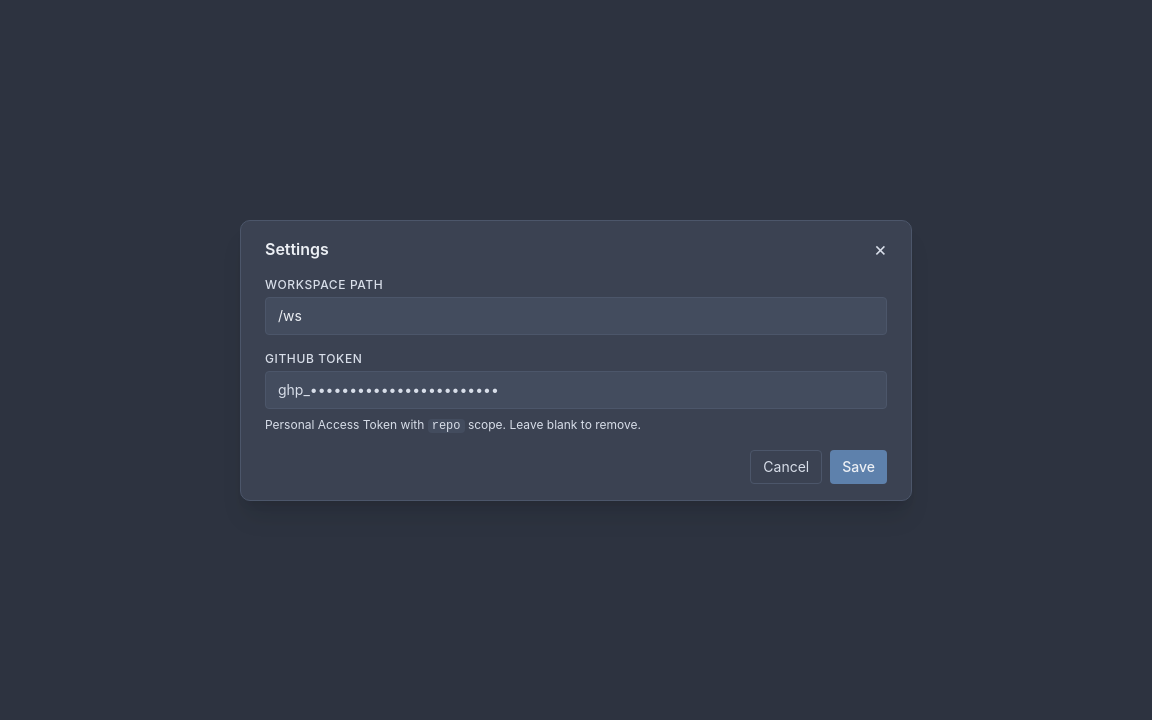
SettingsModal — GitHub Token field › should render an inline error when the PUT mutation fails
Check: the field with placeholder "/Users/you/workspace" holds "/ws", box [265,296,887,334]
Type "ghp_bad" into the password field with placeholder "ghp_••••••••••••••••••••••••".
click(576, 390); type("ghp_bad")  # box [265,370,887,408]
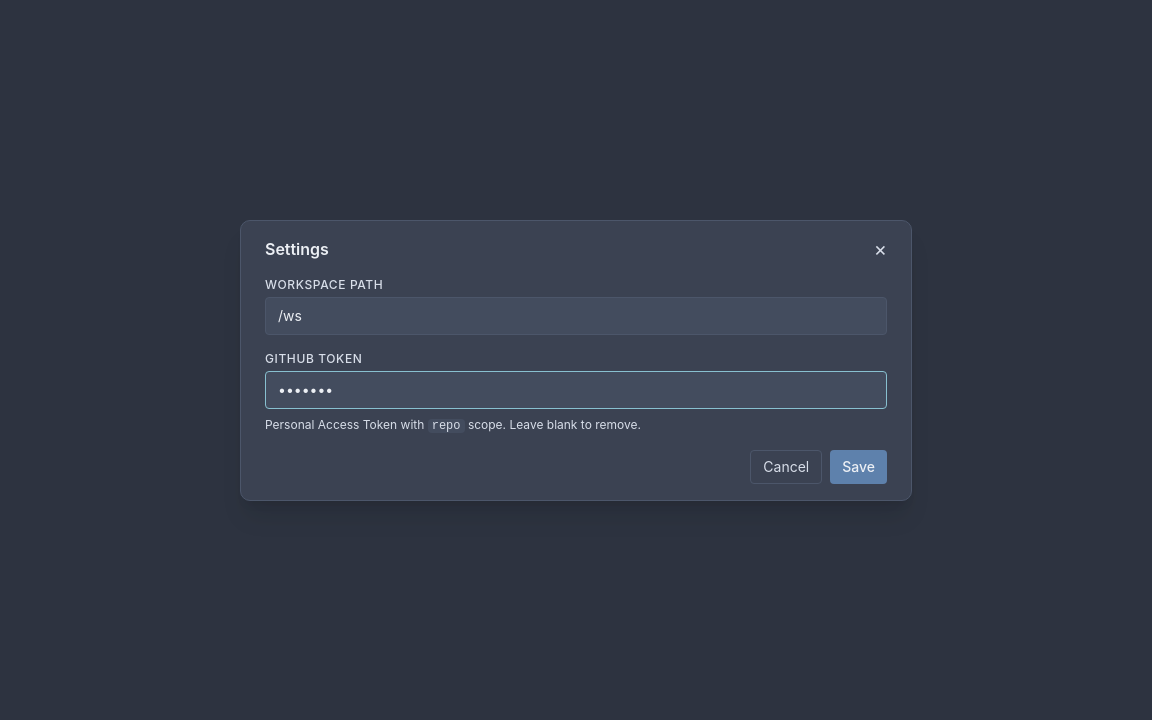
Click the button "Save".
click(859, 466)  # box [830,450,887,484]
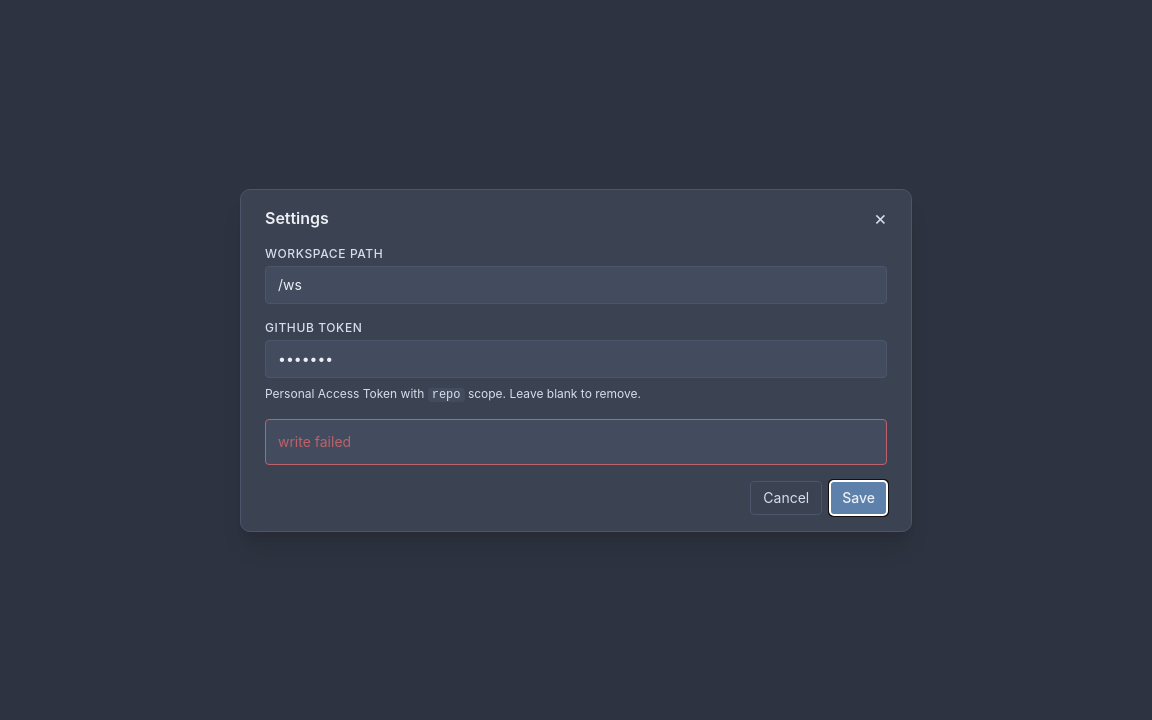
Check: the text "write failed" is shown, box [265,418,887,464]
